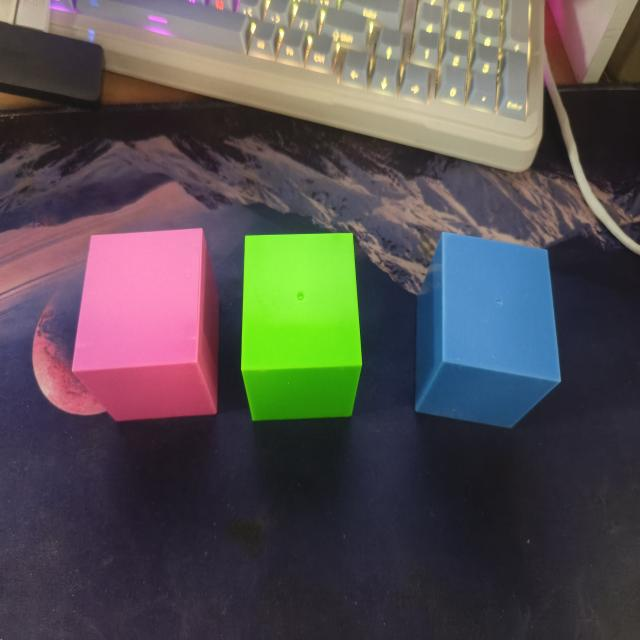blue: (414, 234, 562, 431)
green: (240, 230, 363, 424)
pink: (68, 228, 219, 424)
